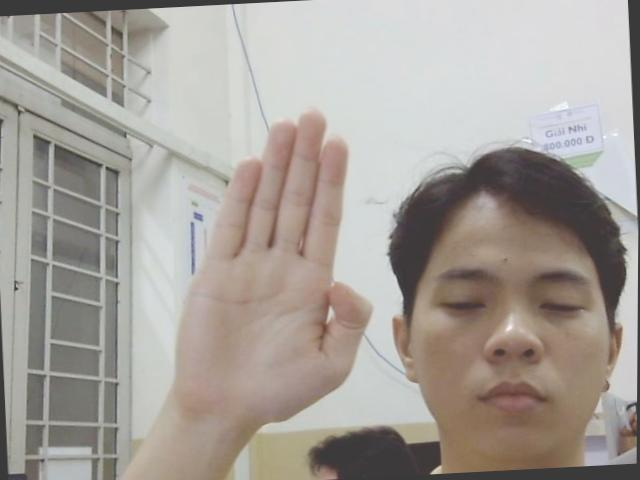B: (149, 94, 390, 448)
